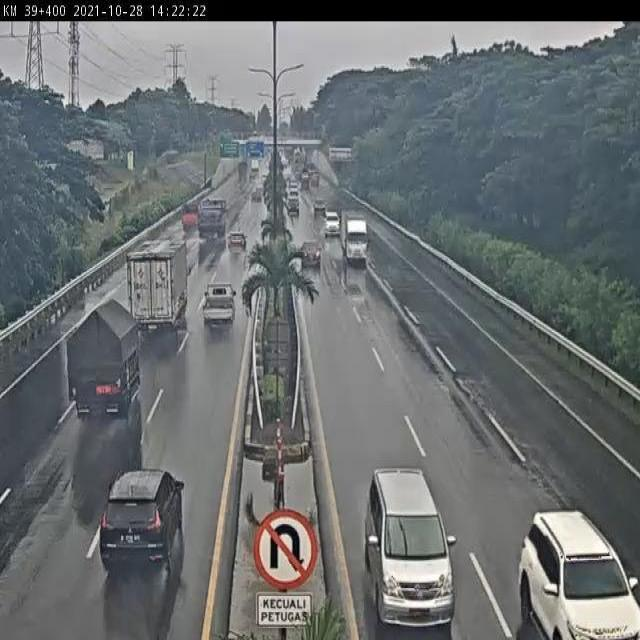car: (366, 469, 457, 627), (93, 469, 185, 583), (202, 281, 240, 336), (225, 229, 247, 255)
truck-l-: (125, 241, 190, 339), (195, 199, 228, 241)
truck-m-: (66, 299, 143, 425)
truck-s-: (339, 208, 368, 264), (178, 203, 199, 233)
